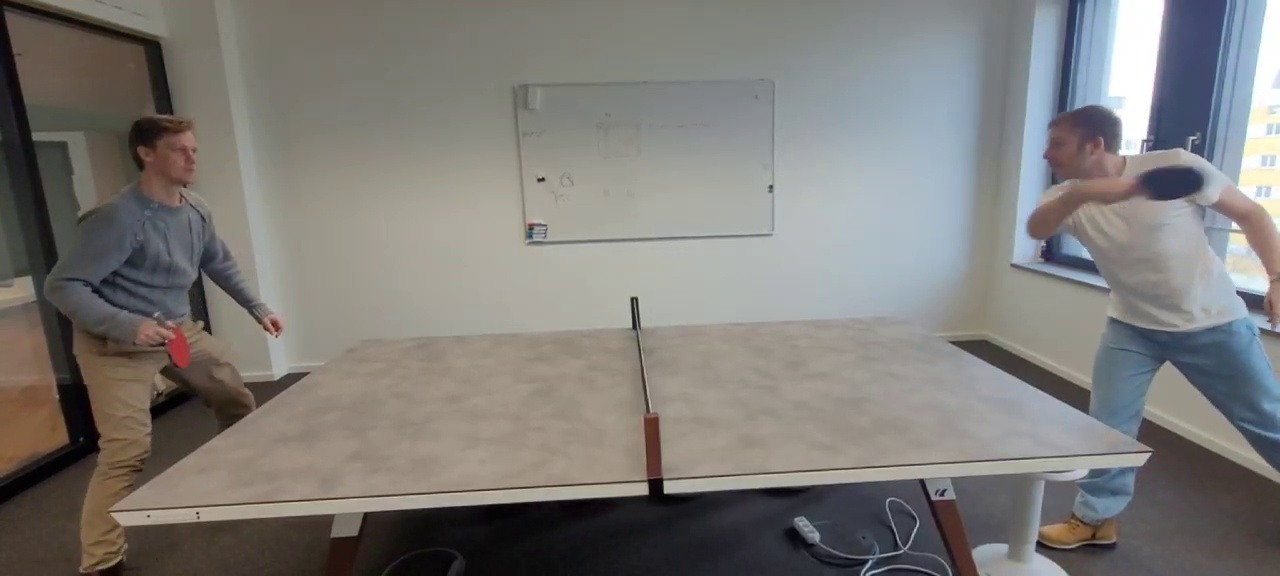1: (1135, 164, 1204, 201), (153, 311, 190, 369)
ttplatte: (109, 317, 1152, 511)
